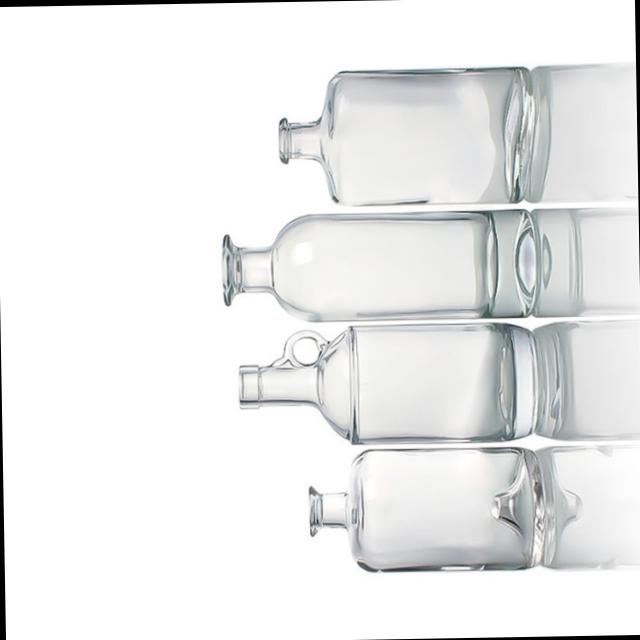glass: (227, 301, 565, 460), (266, 47, 554, 210), (209, 200, 558, 329), (287, 432, 570, 585)
